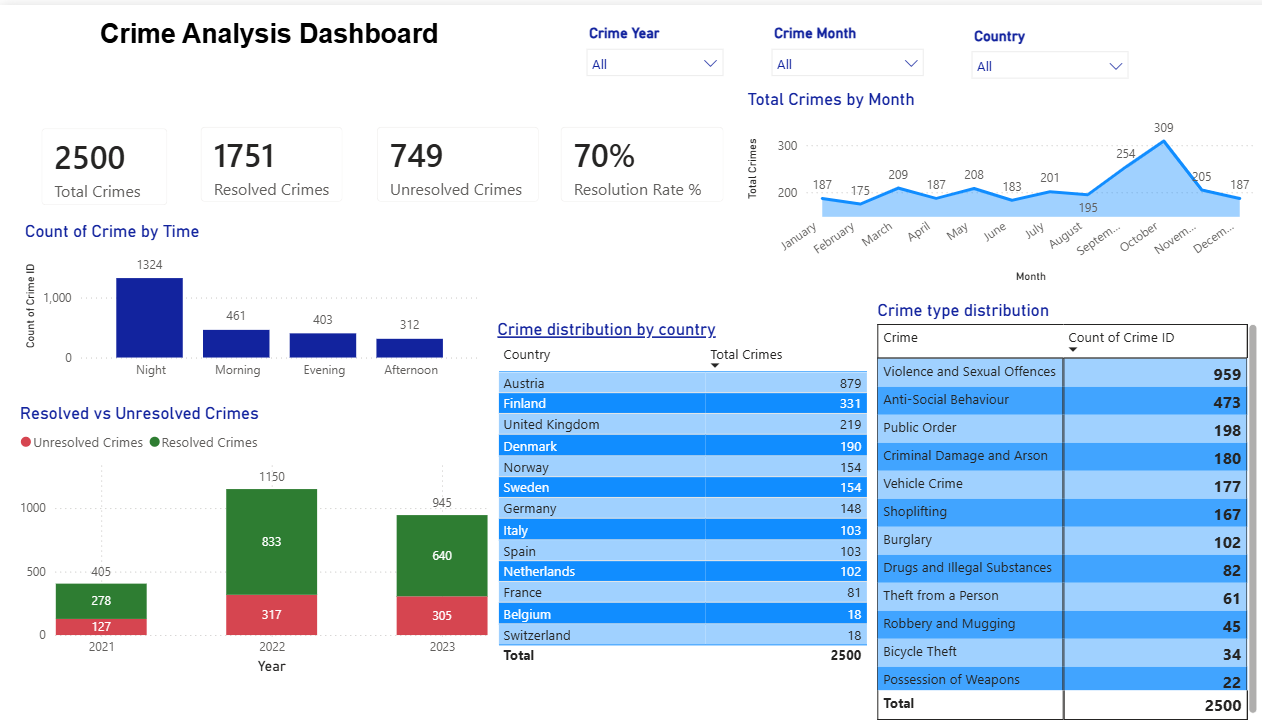

The page's visual inventory and layout, read from the dashboard file:
{"tool":"powerbi","page":{"name":"Crime analytics Dashboard","canvas":[1280,720],"ordinal":0},"visuals":[{"type":"cardVisual","title":"Total Crimes","fields":{"Data":["Crimes Type.Total Crimes"]},"box":[26.5,111,156.8,105],"z":0},{"type":"cardVisual","fields":{"Data":["Crimes Type.Resolved Crimes"]},"box":[183.4,105,176.1,109.8],"z":1000},{"type":"cardVisual","fields":{"Data":["Crimes Type.Unresolved Crimes"]},"box":[359.5,105,196.6,109.8],"z":2000},{"type":"pivotTable","title":"Crime type distribution ","fields":{"Rows":["Crimes Data.Crime"],"Values":["CountNonNull(Crimes Type.Crime ID)"]},"box":[872.3,295.6,389.7,424.7],"z":3000},{"type":"columnChart","title":"Resolved vs Unresolved Crimes","fields":{"Category":["Crimes Type.Crime DateTime.Variation.Date Hierarchy.Year"],"Y":["Crimes Type.Unresolved Crimes","Sum(Crimes Type.Resolved)"]},"box":[14.5,396.9,477.8,276.3],"z":4000},{"type":"tableEx","title":"Crime distribution by country","fields":{"Values":["Crimes Type.Country","Crimes Type.Total Crimes"]},"box":[492.2,313.7,380,360.7],"z":5000},{"type":"cardVisual","fields":{"Data":["Crimes Type.Resolution Rate %"]},"box":[544.1,105,197.9,109.8],"z":6000},{"type":"columnChart","title":"Count of Crime by Time","fields":{"Category":["Crimes Type.Time of Crime"],"Y":["CountNonNull(Crimes Type.Crime ID)"]},"box":[20.5,216,465.7,166.5],"z":7000},{"type":"lineChart","fields":{"Category":["Crimes Type.Crime Date.Variation.Date Hierarchy.Month"],"Y":["Crimes Type.Total Crimes"]},"box":[742,83.2,517.6,199.1],"z":8000},{"type":"slicer","fields":{"Values":["Crimes Type.Crime Year"]},"box":[576.7,14.5,156.8,80.8],"z":9000},{"type":"slicer","fields":{"Values":["Crimes Type.Crime Month"]},"box":[761.3,14.5,172.5,68.8],"z":10000},{"type":"slicer","fields":{"Values":["Crimes Type.Country"]},"box":[961.5,18.1,177.3,74.8],"z":11000},{"type":"textbox","box":[14.5,8.4,477.8,74.8],"z":12000}]}

Visuals, with their boxes in screenshot pixels (x1, y1, x2, y2), scaled from the page's 1280x720 canvas onto the 1262x722 screenshot:
"Total Crimes" cardVisual: <box>26,111,181,217</box>
cardVisual - Crimes Type.Resolved Crimes: <box>181,105,354,215</box>
cardVisual - Crimes Type.Unresolved Crimes: <box>354,105,548,215</box>
"Crime type distribution " pivotTable: <box>860,296,1244,721</box>
"Resolved vs Unresolved Crimes" columnChart: <box>14,398,485,675</box>
"Crime distribution by country" tableEx: <box>485,315,860,676</box>
cardVisual - Crimes Type.Resolution Rate %: <box>536,105,732,215</box>
"Count of Crime by Time" columnChart: <box>20,217,479,384</box>
lineChart - Crimes Type.Crime Date.Variation.Date Hierarchy.Month x Crimes Type.Total Crimes: <box>732,83,1242,283</box>
slicer - Crimes Type.Crime Year: <box>569,15,723,96</box>
slicer - Crimes Type.Crime Month: <box>751,15,921,84</box>
slicer - Crimes Type.Country: <box>948,18,1123,93</box>
textbox: <box>14,8,485,83</box>
